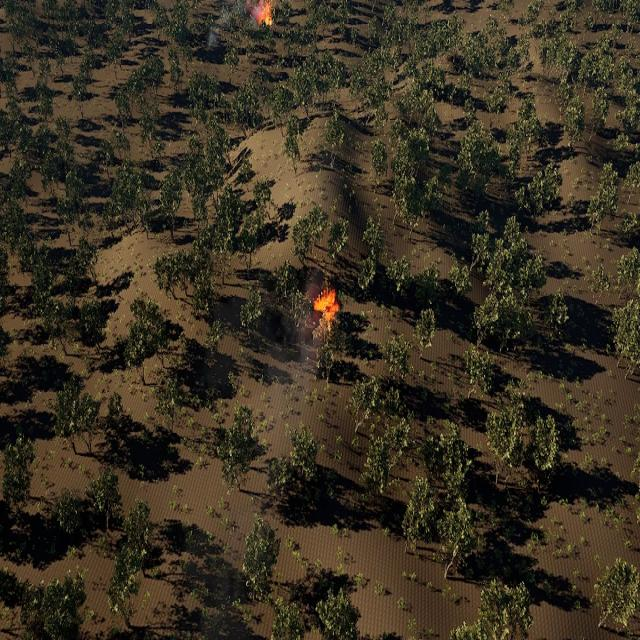fire: (314, 291, 338, 331), (258, 0, 275, 25)
smoke: (282, 278, 321, 370), (205, 0, 263, 46)
